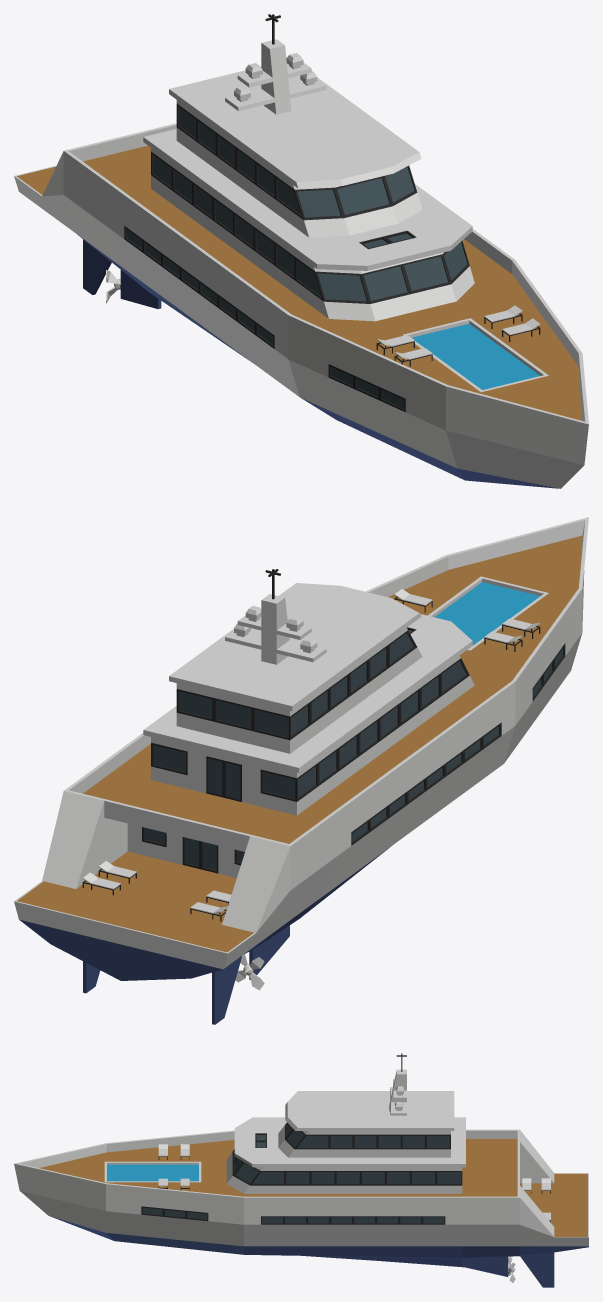
Rendered from vehicles_ship-yacht.fbx.
The picture shows the model from 3 angles, top to bottom: view 1: azimuth 30°, elevation 25°; view 2: azimuth 150°, elevation 25°; view 3: azimuth 270°, elevation 25°; orthographic projection. The views are drawn at different scales.
Visible parts, largest first — view 1: vehicles_ship_yacht; view 2: vehicles_ship_yacht; view 3: vehicles_ship_yacht.
Boxes of the visible parts, x1=… form: vehicles_ship_yacht: x1=14, y1=14, x2=588, y2=488; vehicles_ship_yacht: x1=14, y1=517, x2=588, y2=1024; vehicles_ship_yacht: x1=14, y1=1053, x2=588, y2=1287.
Size of the model in its own units: 56.01 by 82.11 by 200.
